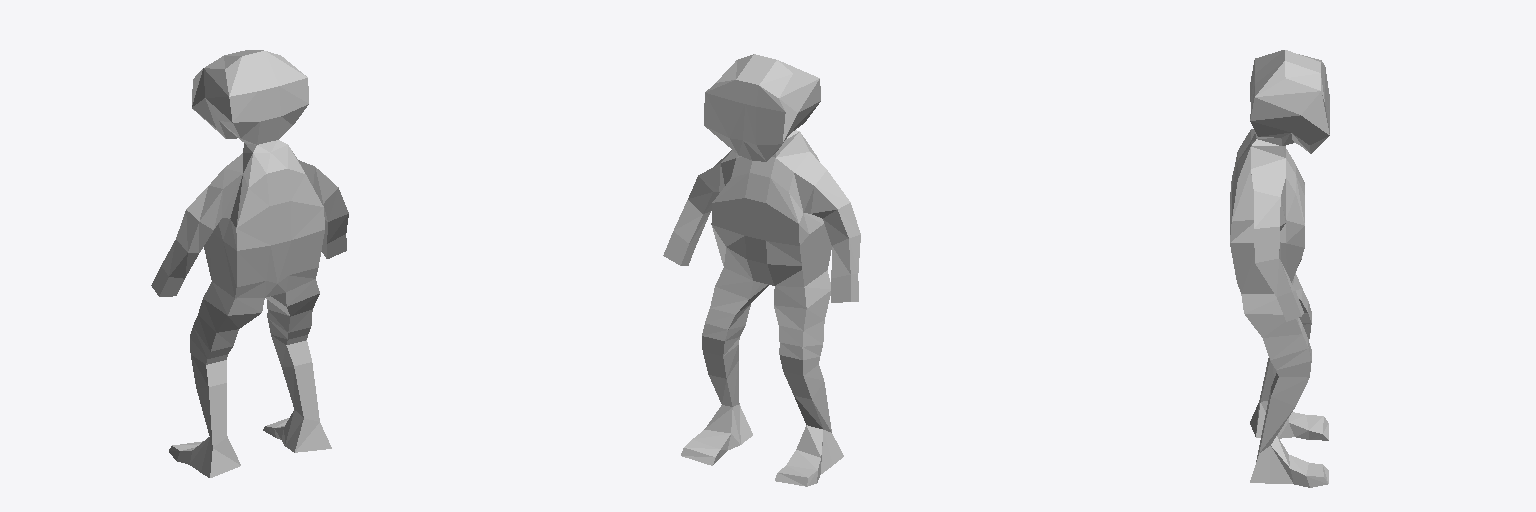
File: lwjglcharactergoblin.obj
3 views of the same model, side by side, from view 1: azimuth 30°, elevation 25°; view 2: azimuth 150°, elevation 25°; view 3: azimuth 270°, elevation 25° (orthographic).
Visible parts, largest first — view 1: Cube.001; view 2: Cube.001; view 3: Cube.001.
Part boxes in pixels (left/top/right/bottom): Cube.001: left=151, top=50, right=348, bottom=477; Cube.001: left=663, top=54, right=860, bottom=486; Cube.001: left=1230, top=50, right=1329, bottom=487.
Bounding box in the file's own units: 1.92 × 3.92 × 0.8881.